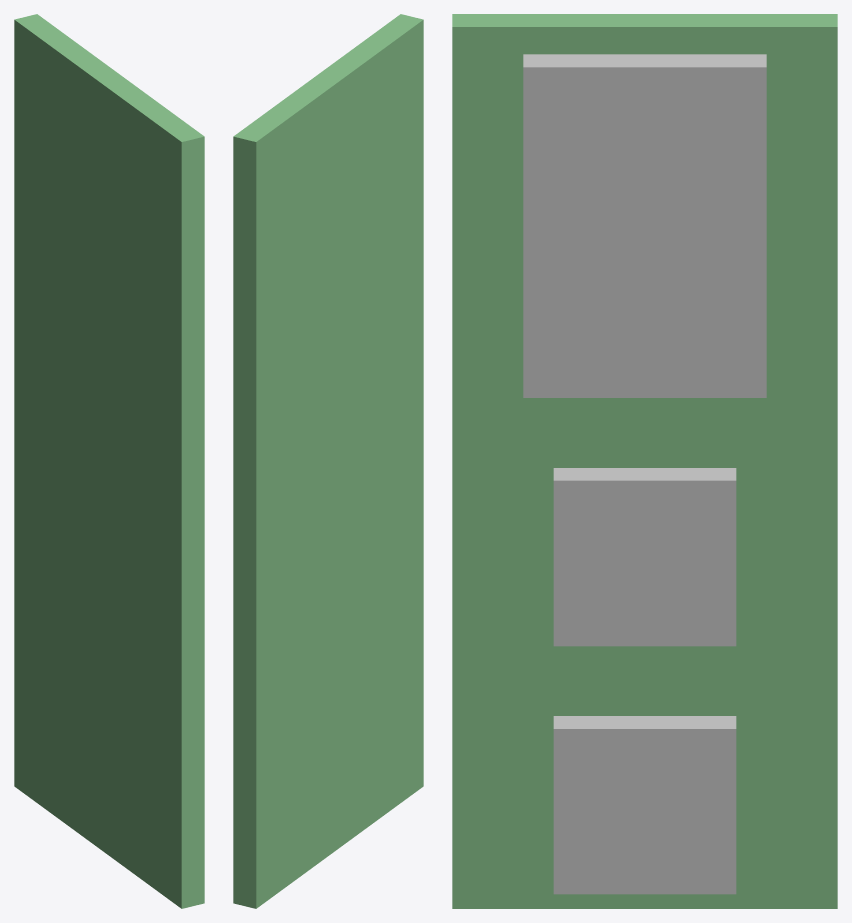
File: Astro_Vac_PariscopeSenesor.fbx
The picture shows the model from 3 angles, left to right: view 1: azimuth 30°, elevation 25°; view 2: azimuth 150°, elevation 25°; view 3: azimuth 270°, elevation 25°; orthographic projection. The views are drawn at different scales.
Visible parts, largest first — view 1: PLogicBoardIC3; view 2: PLogicBoardIC3; view 3: PLogicBoardIC3.
Boxes of the visible parts, box(x1,y1,x2,y2) form: PLogicBoardIC3: box(14, 14, 204, 908); PLogicBoardIC3: box(233, 14, 423, 908); PLogicBoardIC3: box(452, 14, 837, 908).
Bounding box in the file's own units: 0.0508 × 0.8128 × 0.3217.
